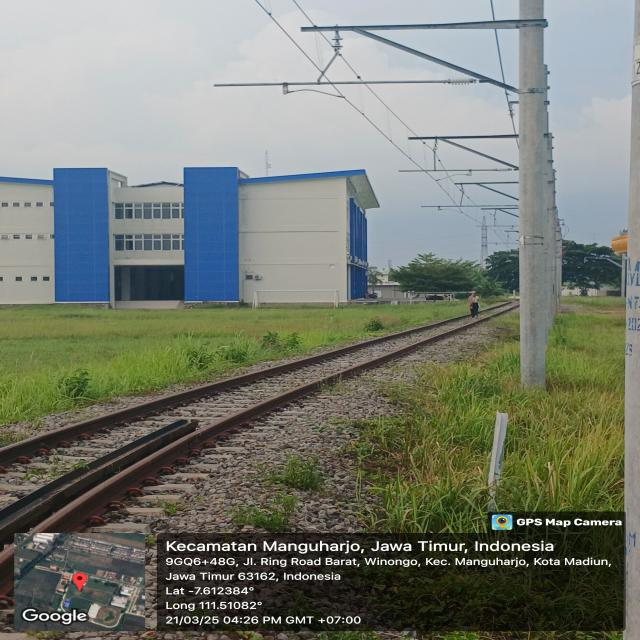rail-detection: (0, 301, 519, 545), (0, 315, 469, 465)
